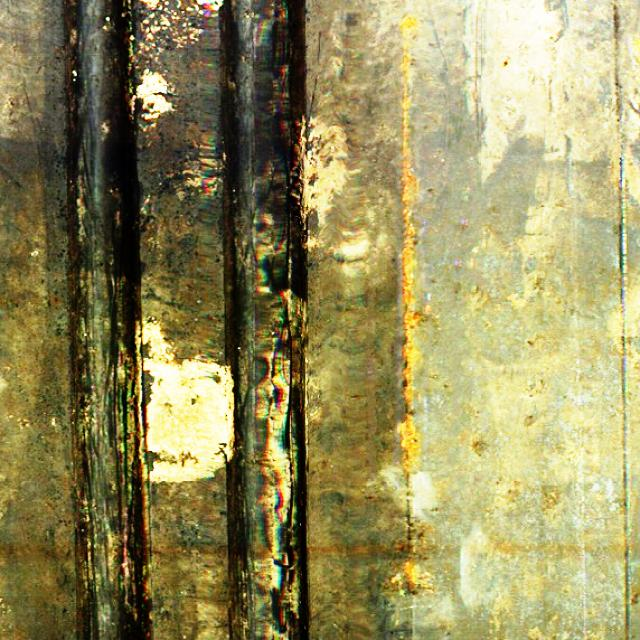Corrosion: (398, 93, 420, 474), (400, 14, 419, 72), (404, 563, 420, 588), (423, 303, 431, 313)
